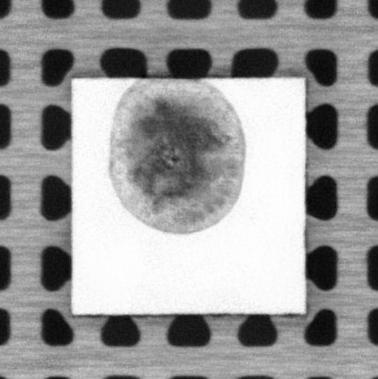DIE_INK: (106, 81, 250, 236)
